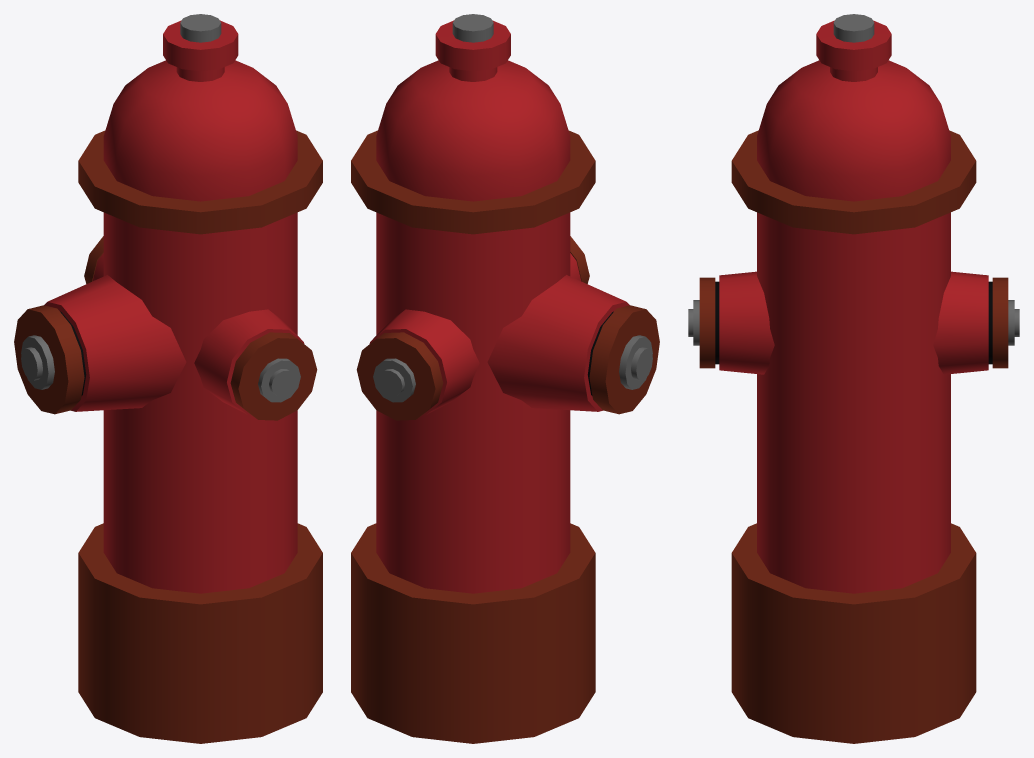
File: FireHydrant4_1.fbx
3 renders of one model, left to right at view 1: azimuth 30°, elevation 25°; view 2: azimuth 150°, elevation 25°; view 3: azimuth 270°, elevation 25°, orthographic.
Visible parts, largest first — view 1: Гидрант.041; view 2: Гидрант.041; view 3: Гидрант.041.
Part boxes in pixels (box(x1,y1,x2,y2)): Гидрант.041: box(14, 14, 322, 743); Гидрант.041: box(351, 14, 659, 743); Гидрант.041: box(688, 14, 1019, 743).
Size of the model in its own units: 65.47 by 151 by 67.83.
